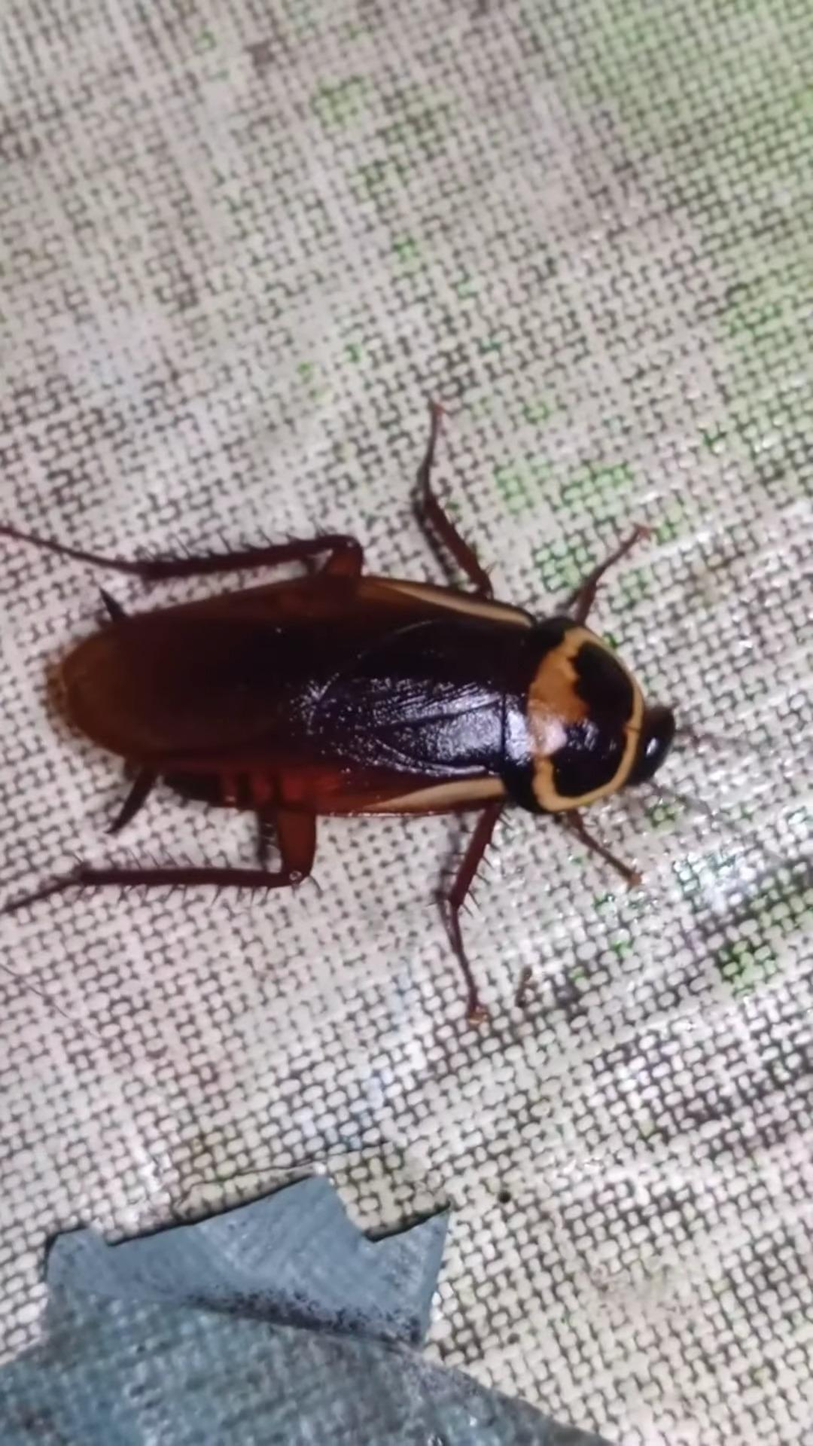cockroach: (0, 374, 813, 1049)
